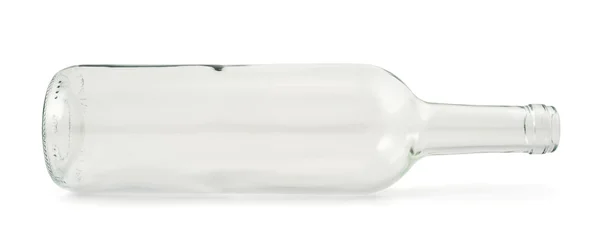glass_bottle: (29, 48, 574, 210)
